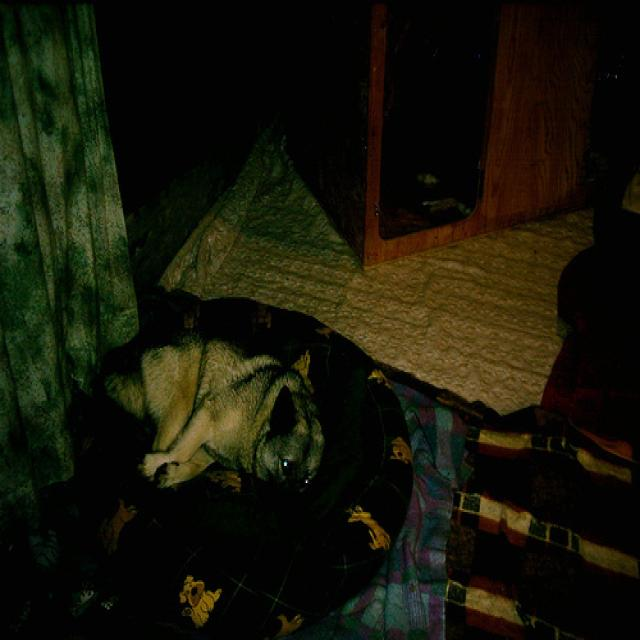Dog: (87, 217, 368, 640)
